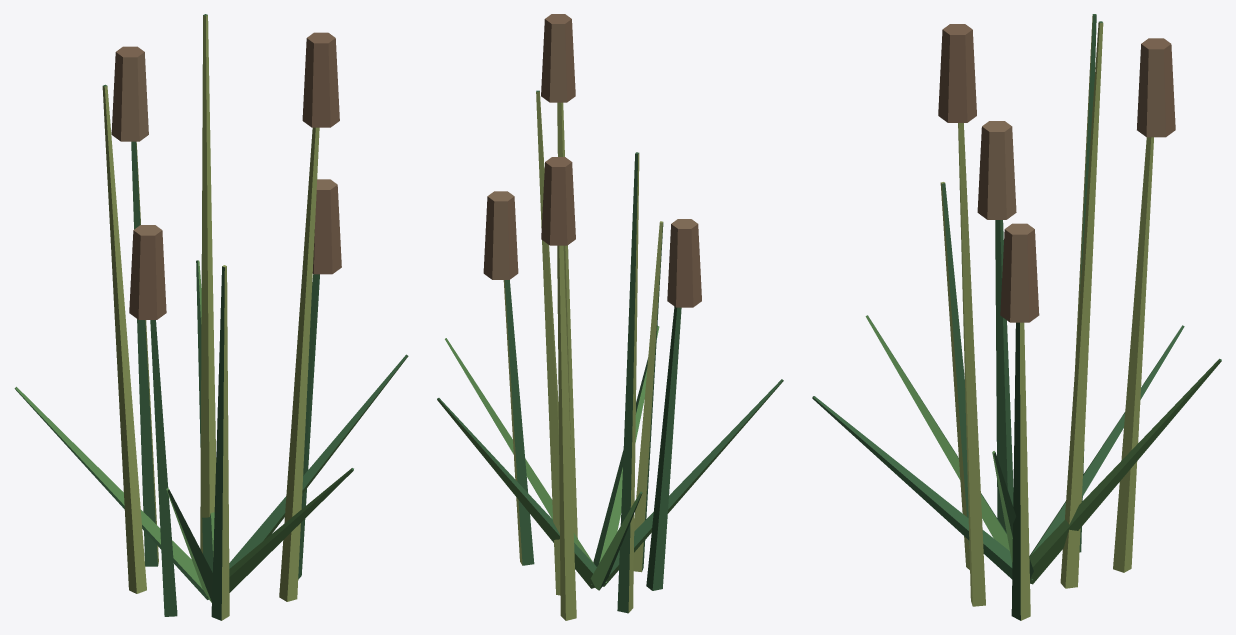
File: reeds.glb
3 renders of one model, left to right at view 1: azimuth 30°, elevation 25°; view 2: azimuth 150°, elevation 25°; view 3: azimuth 270°, elevation 25°, orthographic. The views are drawn at different scales.
Visible parts, largest first — view 1: reeds; view 2: reeds; view 3: reeds.
Part boxes in pixels (<box>): reeds: <box>14,14,408,620</box>; reeds: <box>437,14,783,620</box>; reeds: <box>812,14,1221,620</box>.
Size of the model in its own units: 0.8416 by 1.51 by 0.9466.
